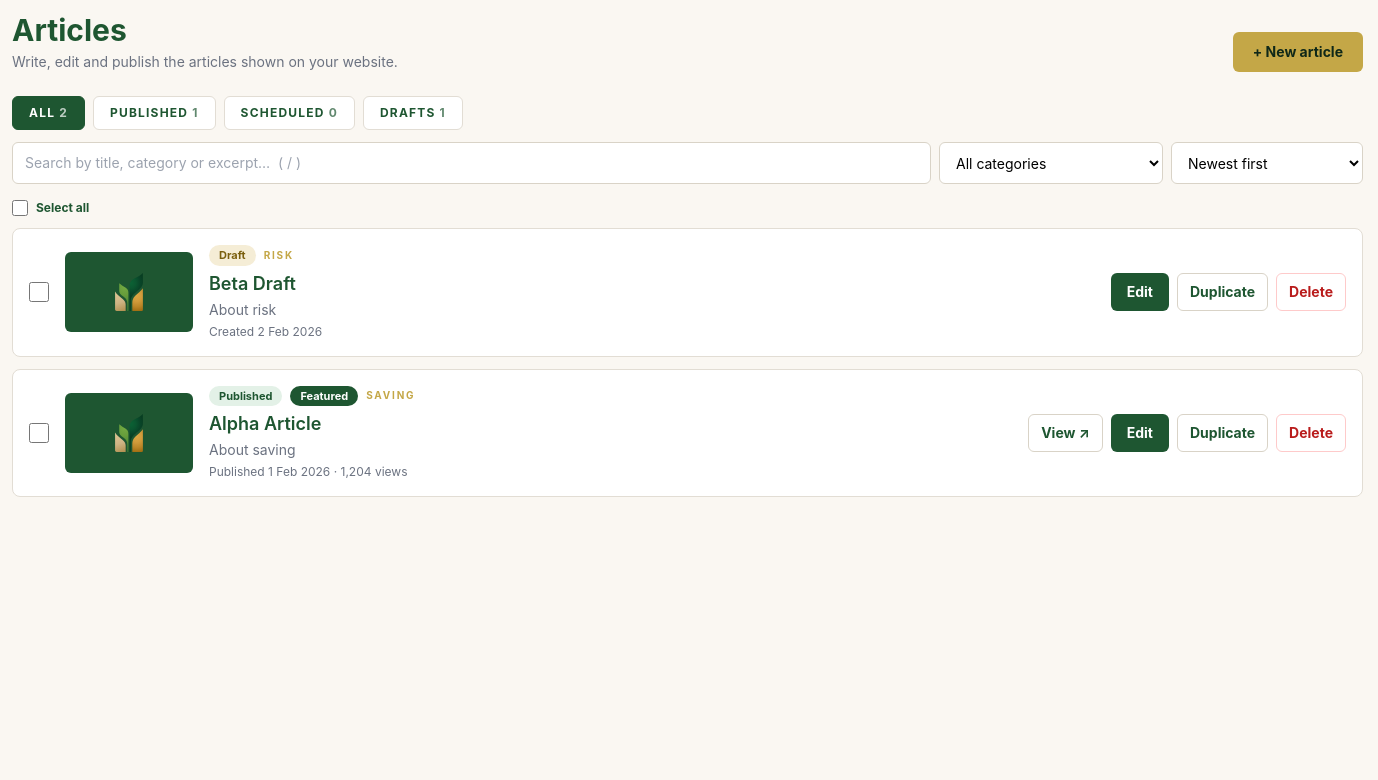
Test: Feature is only offered for a single article
The width and height of the screenshot is (1378, 780).
Click the checkbox named "Select Alpha Article": click(39, 433) left=29, top=423, right=49, bottom=443
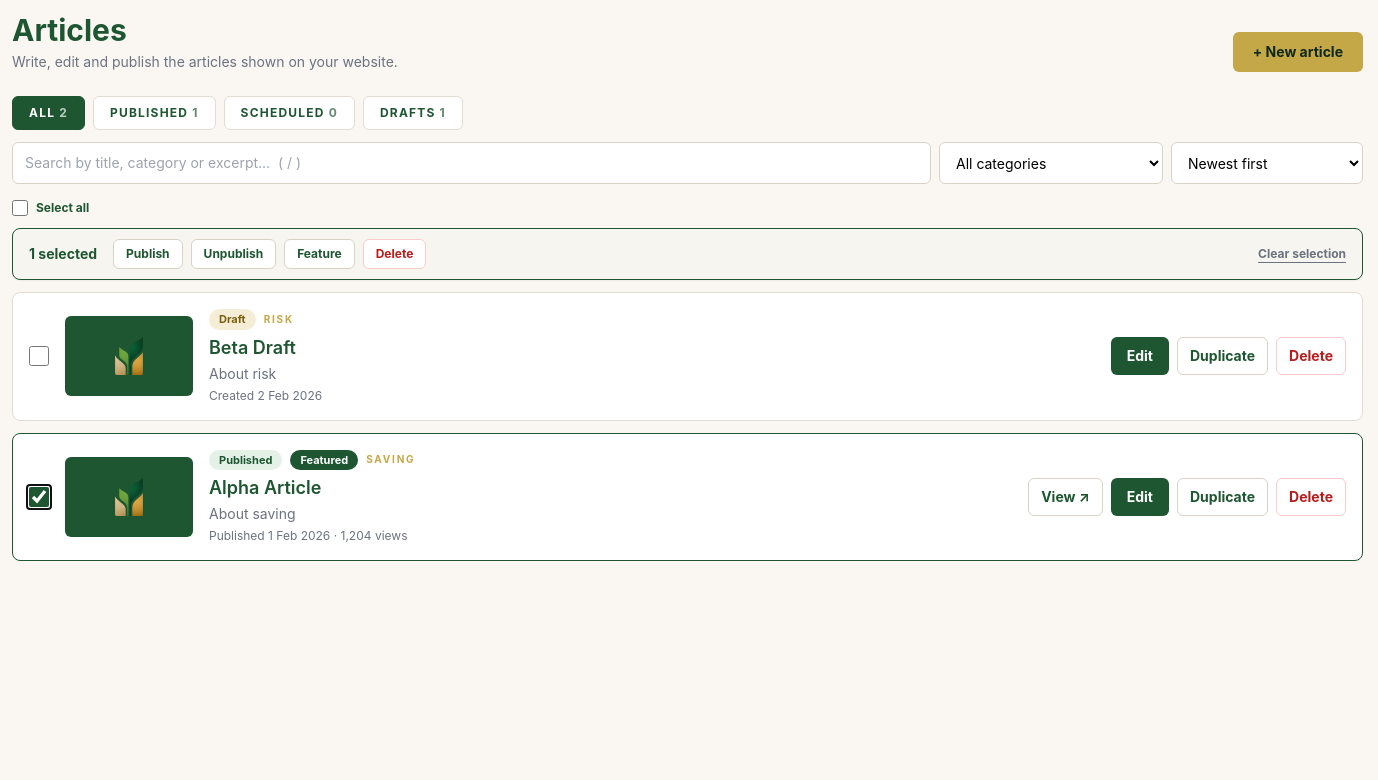
Now the button "Feature" is enabled, box left=284, top=239, right=355, bottom=269
Click the checkbox named "Select Beta Draft": click(39, 356) left=29, top=346, right=49, bottom=366
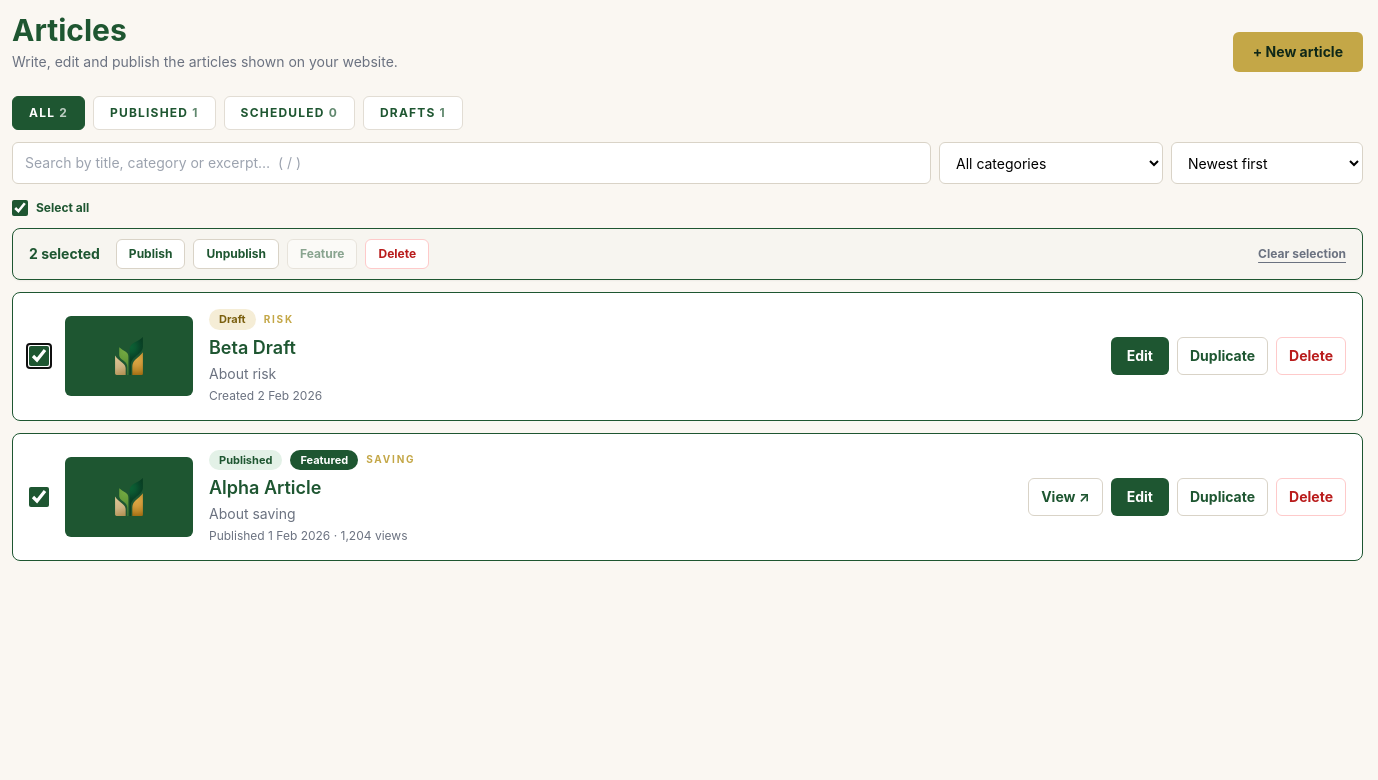
Now the button "Feature" is disabled, box left=287, top=239, right=357, bottom=269
